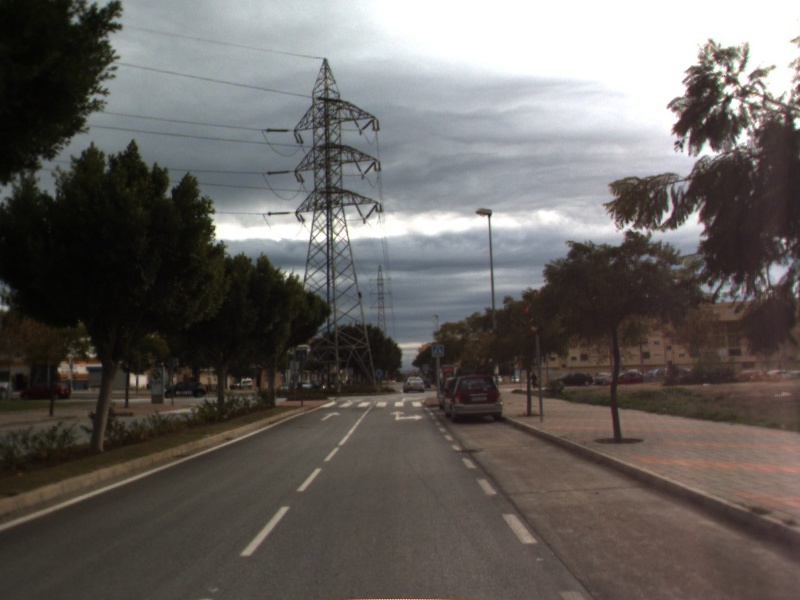STRAIGHT: (318, 409, 343, 423)
STRAIGHT_RIGHT: (389, 409, 425, 422)
